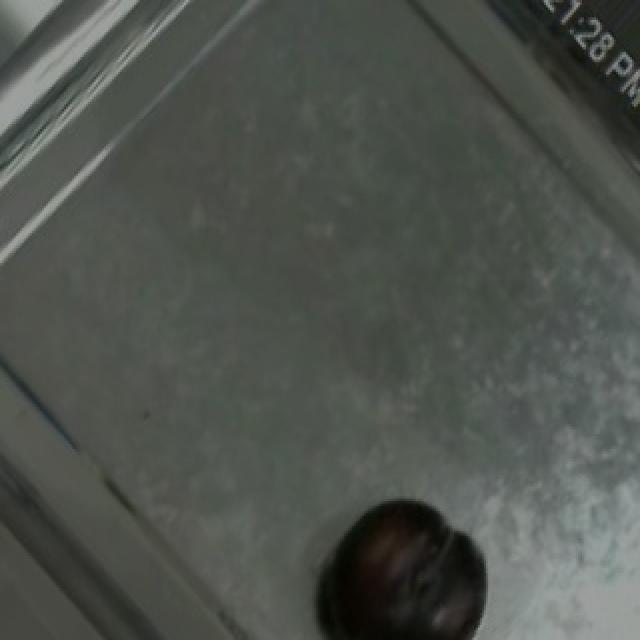Fruit: (318, 483, 464, 640)
